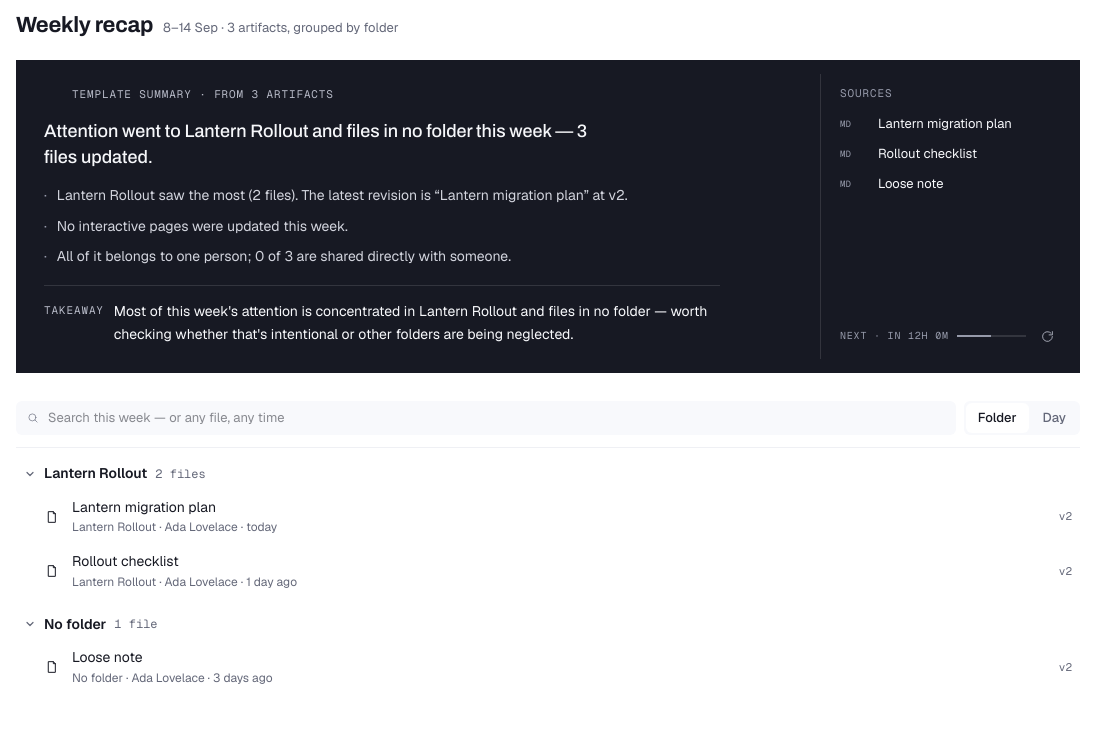
Scenario: ContextPage › regroups the list by day
This screenshot has width=1099, height=742.
Expected: the button "Lantern Rollout 2 files" is shown, top-left (16, 448), bottom-right (1080, 490)
Click the button "Day" at (1054,418), box top-left (1031, 403), bottom-right (1078, 433)
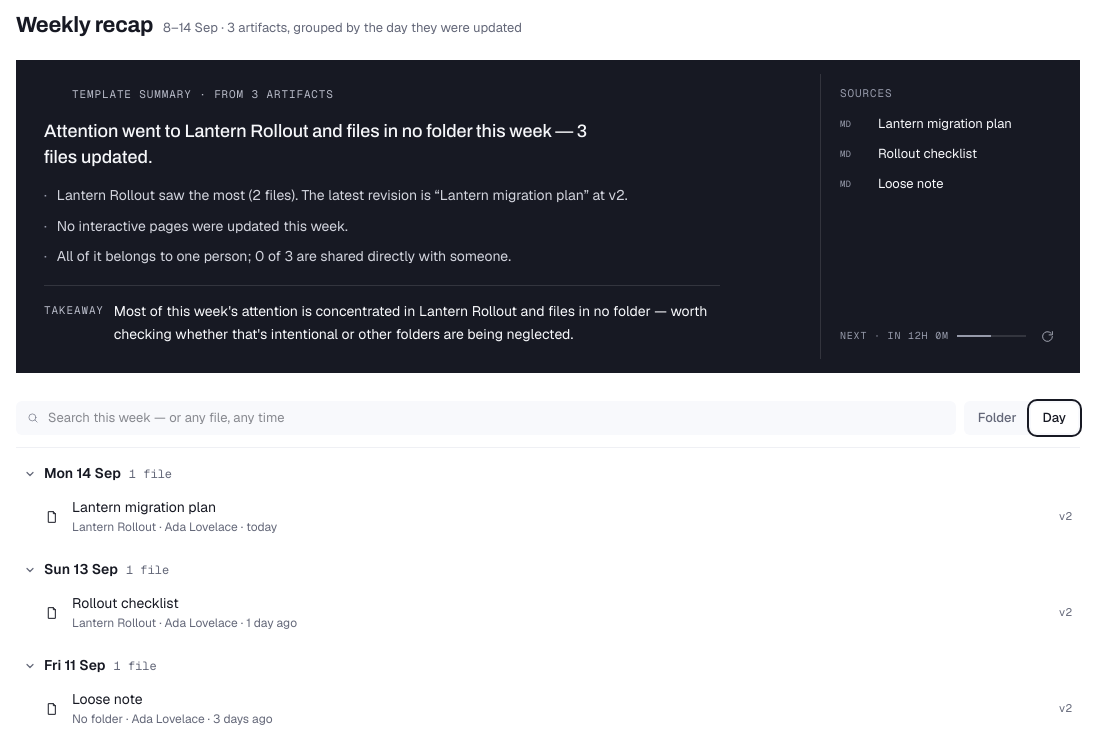
Expected: the text "8–14 Sep · 3 artifacts, grouped by the day they were updated" is shown, top-left (163, 19), bottom-right (522, 37)
